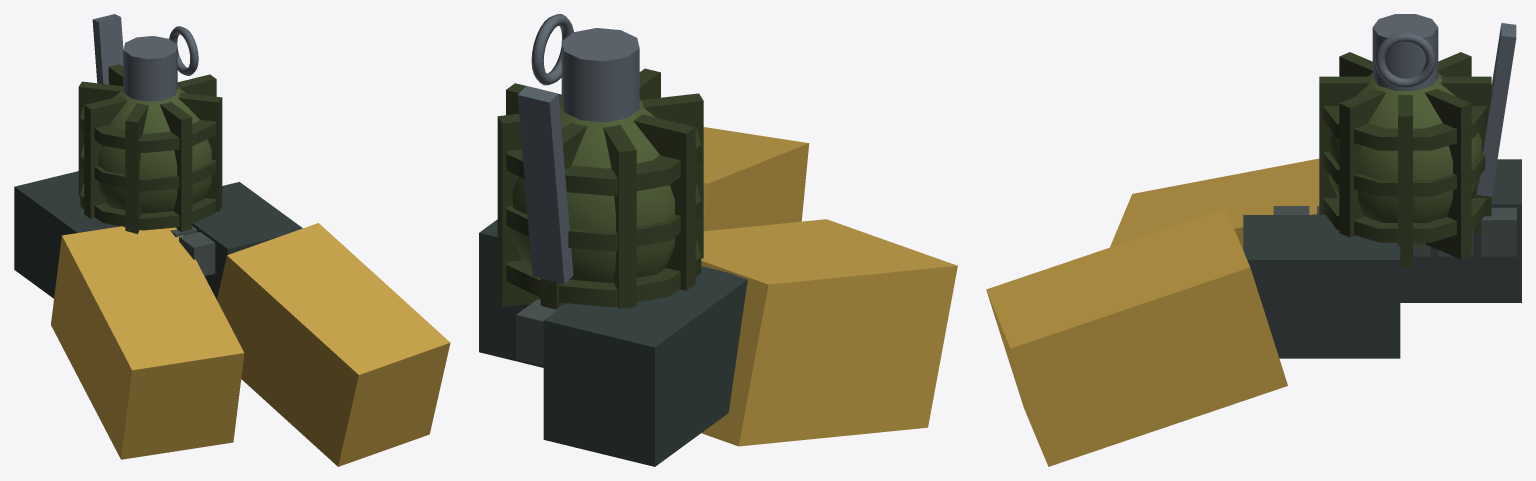
The model's file is frag.glb.
The picture shows the model from 3 angles, left to right: view 1: azimuth 30°, elevation 25°; view 2: azimuth 150°, elevation 25°; view 3: azimuth 270°, elevation 25°; orthographic projection. The views are drawn at different scales.
Visible parts, largest first — view 1: _MeshInstance3D_3944, _MeshInstance3D_3938, _MeshInstance3D_3937, _MeshInstance3D_3925, _MeshInstance3D_3943, _MeshInstance3D_3933, _MeshInstance3D_3930, _MeshInstance3D_3931, _MeshInstance3D_3929, _MeshInstance3D_3932, _MeshInstance3D_3928, _MeshInstance3D_3926 (+4 smaller); view 2: _MeshInstance3D_3938, _MeshInstance3D_3937, _MeshInstance3D_3944, _MeshInstance3D_3925, _MeshInstance3D_3934, _MeshInstance3D_3933, _MeshInstance3D_3932, _MeshInstance3D_3931, _MeshInstance3D_3930, _MeshInstance3D_3926, _MeshInstance3D_3943, _MeshInstance3D_3928 (+4 smaller); view 3: _MeshInstance3D_3944, _MeshInstance3D_3943, _MeshInstance3D_3938, _MeshInstance3D_3937, _MeshInstance3D_3925, _MeshInstance3D_3932, _MeshInstance3D_3930, _MeshInstance3D_3929, _MeshInstance3D_3933, _MeshInstance3D_3934, _MeshInstance3D_3928, _MeshInstance3D_3926 (+4 smaller).
Boxes of the visible parts, <box> form: _MeshInstance3D_3944: <box>217,223,450,466</box>; _MeshInstance3D_3938: <box>51,226,244,459</box>; _MeshInstance3D_3937: <box>14,171,119,298</box>; _MeshInstance3D_3925: <box>98,86,211,213</box>; _MeshInstance3D_3943: <box>192,182,302,299</box>; _MeshInstance3D_3933: <box>123,36,177,101</box>; _MeshInstance3D_3930: <box>78,81,222,211</box>; _MeshInstance3D_3931: <box>84,74,216,218</box>; _MeshInstance3D_3929: <box>108,64,192,232</box>; _MeshInstance3D_3932: <box>125,103,148,233</box>; _MeshInstance3D_3928: <box>80,106,216,152</box>; _MeshInstance3D_3926: <box>80,184,216,230</box>; _MeshInstance3D_3938: <box>701,219,957,446</box>; _MeshInstance3D_3937: <box>543,266,747,466</box>; _MeshInstance3D_3944: <box>703,127,809,231</box>; _MeshInstance3D_3925: <box>512,99,674,282</box>; _MeshInstance3D_3934: <box>517,86,573,284</box>; _MeshInstance3D_3933: <box>561,28,639,122</box>; _MeshInstance3D_3932: <box>497,93,703,306</box>; _MeshInstance3D_3931: <box>506,83,695,290</box>; _MeshInstance3D_3930: <box>603,124,636,308</box>; _MeshInstance3D_3926: <box>506,240,701,307</box>; _MeshInstance3D_3943: <box>479,219,543,367</box>; _MeshInstance3D_3928: <box>506,129,701,195</box>; _MeshInstance3D_3944: <box>986,208,1287,466</box>; _MeshInstance3D_3943: <box>1243,215,1400,358</box>; _MeshInstance3D_3938: <box>1110,158,1319,249</box>; _MeshInstance3D_3937: <box>1400,159,1521,302</box>; _MeshInstance3D_3925: <box>1329,73,1481,247</box>; _MeshInstance3D_3932: <box>1339,52,1471,259</box>; _MeshInstance3D_3930: <box>1339,52,1471,237</box>; _MeshInstance3D_3929: <box>1319,76,1491,234</box>; _MeshInstance3D_3933: <box>1372,14,1438,90</box>; _MeshInstance3D_3934: <box>1476,23,1516,196</box>; _MeshInstance3D_3928: <box>1323,106,1487,150</box>; _MeshInstance3D_3926: <box>1323,198,1487,242</box>.
Bounding box in the file's own units: 0.1445 × 0.1652 × 0.2117.
